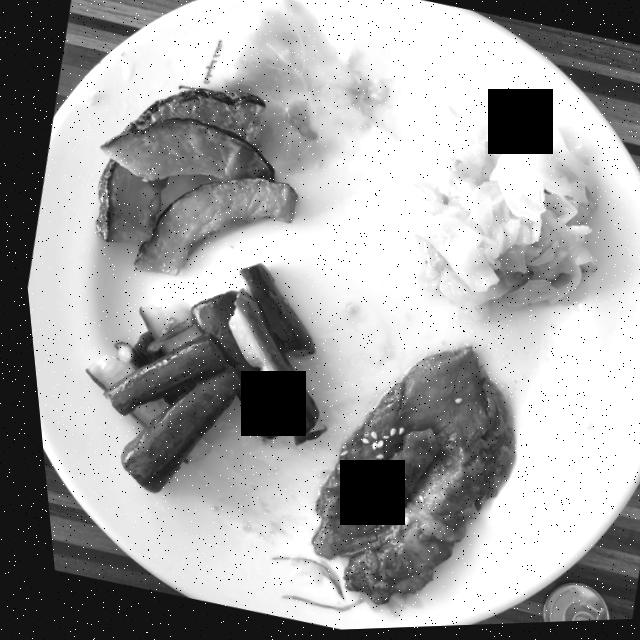Kabayaki sea bream fillet: (300, 350, 504, 607)
cabbage: (397, 107, 591, 321)
coin: (528, 586, 595, 626)
cucumber: (77, 265, 315, 493)
pumpkin: (90, 90, 269, 243), (127, 179, 292, 276)
